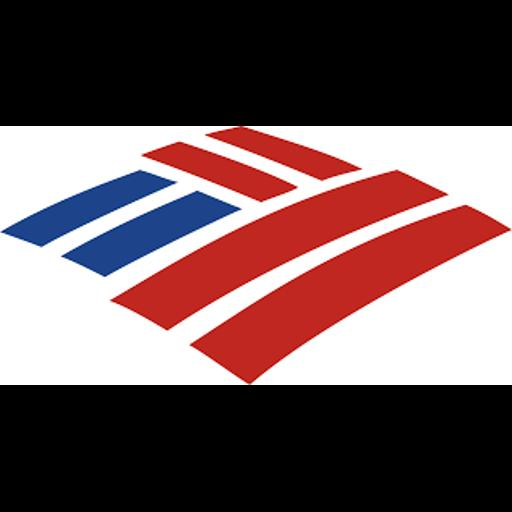Bank of America: (0, 126, 512, 385)
